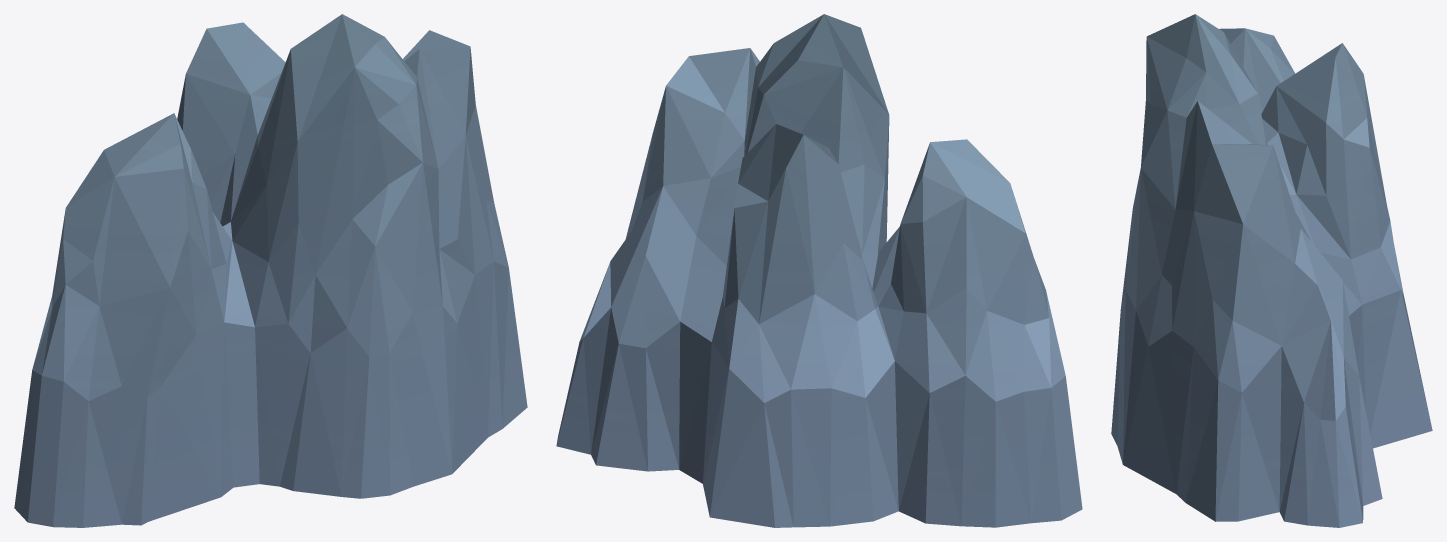
File: ShwedenRock_6.fbx
3 renders of one model, left to right at view 1: azimuth 30°, elevation 25°; view 2: azimuth 150°, elevation 25°; view 3: azimuth 270°, elevation 25°, orthographic. The views are drawn at different scales.
Visible parts, largest first — view 1: ShwedenRock_6; view 2: ShwedenRock_6; view 3: ShwedenRock_6.
Boxes of the visible parts, x1,y1,x2,y2 form: ShwedenRock_6: [14, 14, 527, 527]; ShwedenRock_6: [556, 14, 1082, 527]; ShwedenRock_6: [1111, 14, 1432, 527].
Bounding box in the file's own units: 3.29 × 2.79 × 1.94.
Materials: 1 (1 with a texture image).
